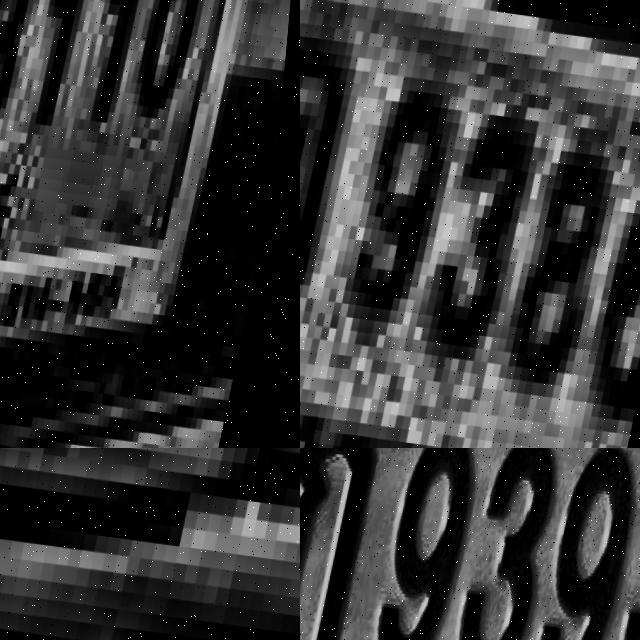license-plate: (300, 0, 640, 448), (0, 0, 293, 448), (300, 448, 640, 640), (0, 448, 300, 640)
